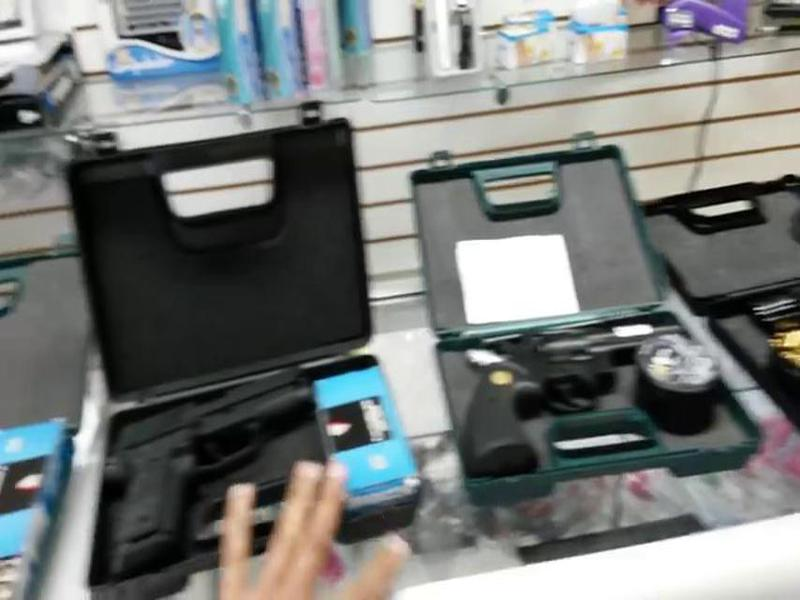Pistola: (104, 373, 328, 558)
